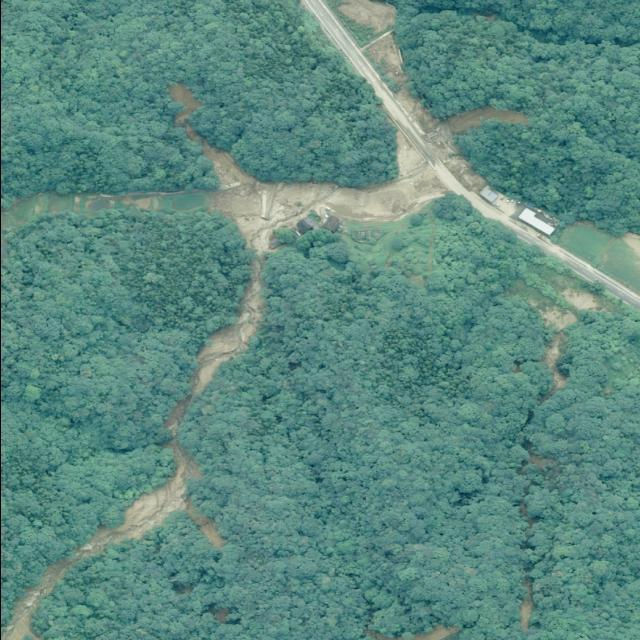landslide: (0, 150, 448, 640), (326, 0, 526, 132), (1, 192, 162, 227), (166, 81, 201, 126)
